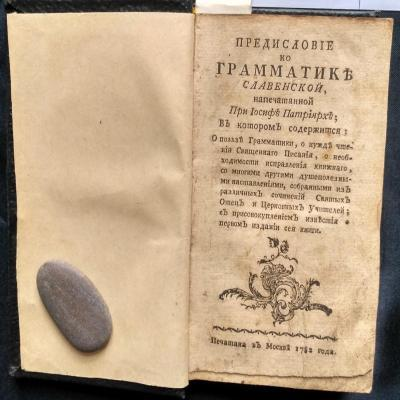rare_books: (5, 10, 388, 392)
